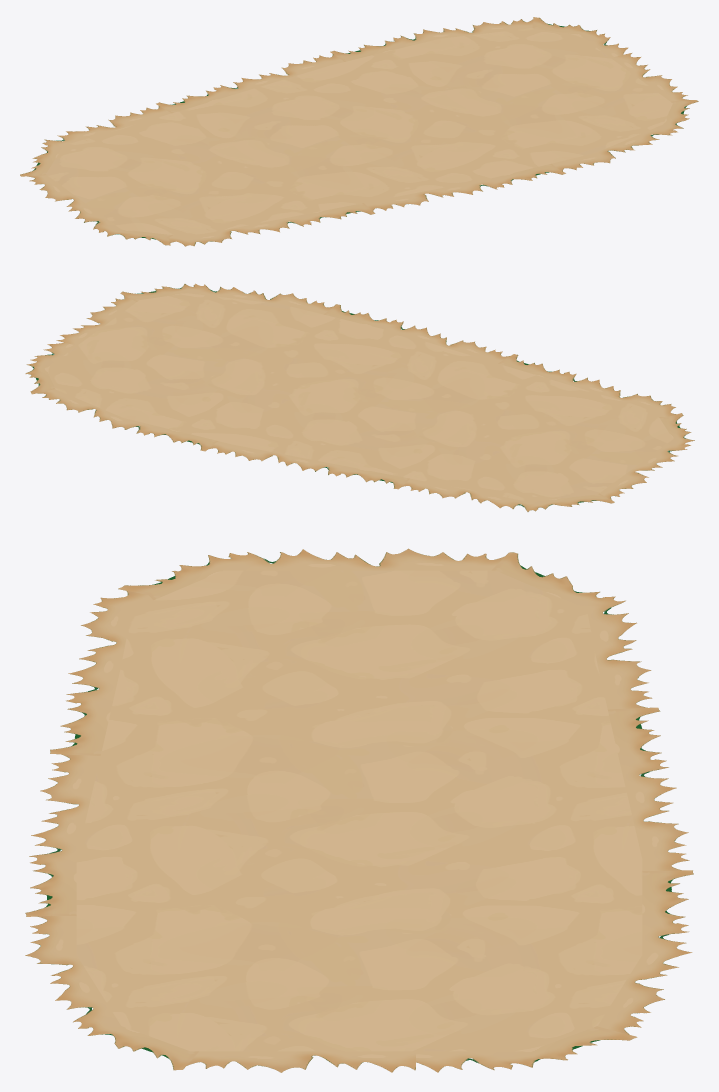
The model's file is Rund Klein.fbx.
3 views of the same model, one above another, from view 1: azimuth 30°, elevation 25°; view 2: azimuth 150°, elevation 25°; view 3: azimuth 270°, elevation 25° (orthographic). The views are drawn at different scales.
Parts seen in each view (by area): view 1: pPlane3; view 2: pPlane3; view 3: pPlane3.
Part boxes in pixels (x1,y1,x2,y2): pPlane3: (20,17,698,246); pPlane3: (25,283,694,511); pPlane3: (25,548,693,1072).
Bounding box in the file's own units: 3.27 × 1.65e-17 × 1.79.
